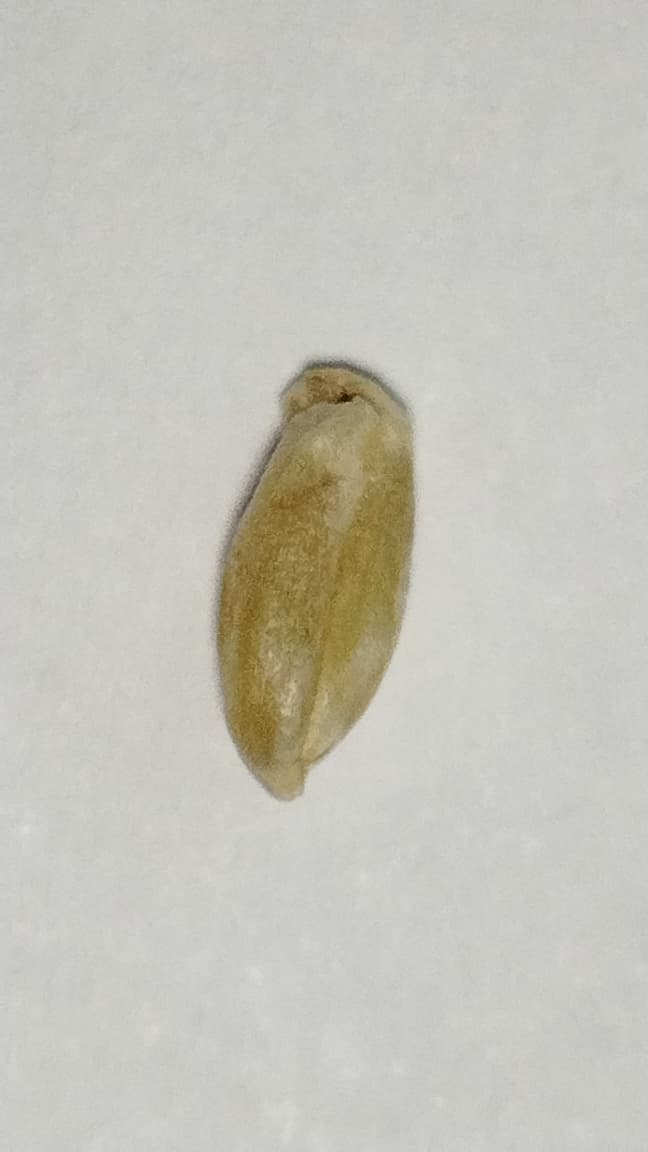healthy: (212, 364, 417, 801)
